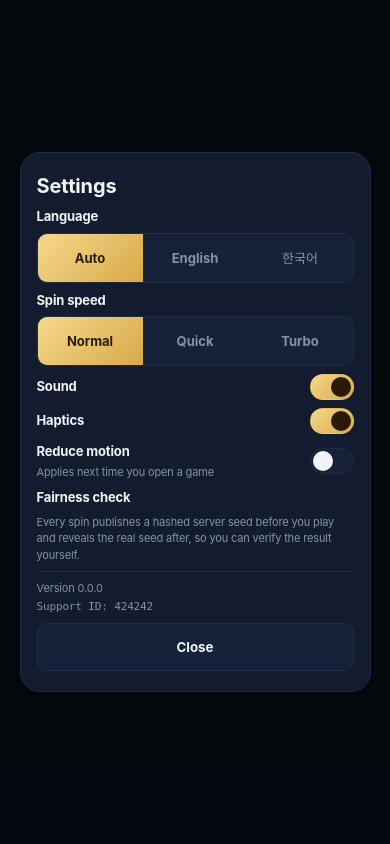
Test: SettingsModal › switching the language to Korean immediately re-renders labels and persists via PATCH /me
Step 1. Click the radio button labelled "한국어" → (300, 258), box [248, 234, 352, 282]
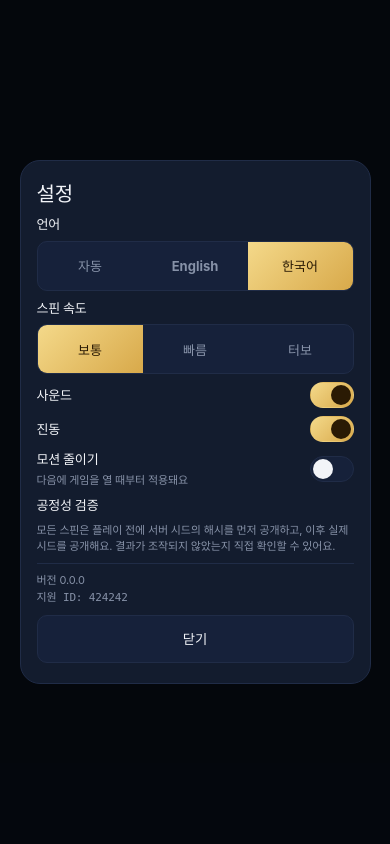
Now the heading "설정" is shown, box [36, 182, 73, 206]
